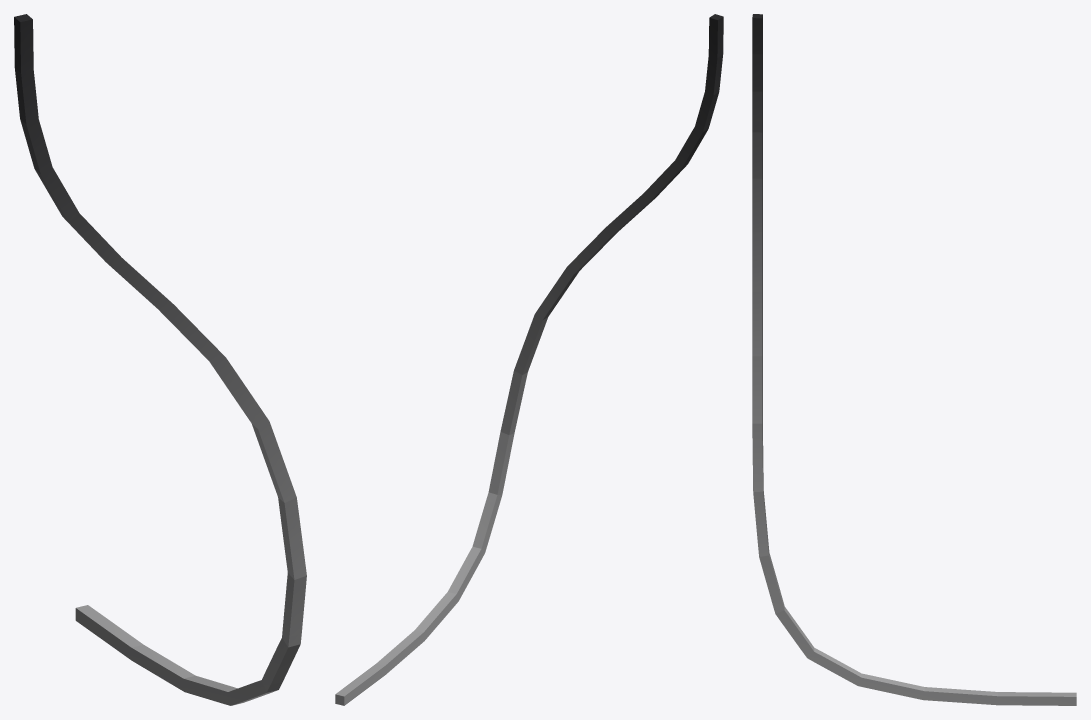
File: mouse_cord.fbx
3 renders of one model, left to right at view 1: azimuth 30°, elevation 25°; view 2: azimuth 150°, elevation 25°; view 3: azimuth 270°, elevation 25°, orthographic. The views are drawn at different scales.
Visible parts, largest first — view 1: Mouse_Cord; view 2: Mouse_Cord; view 3: Mouse_Cord.
Part boxes in pixels (x1,y1,x2,y2): Mouse_Cord: (14, 14, 306, 705); Mouse_Cord: (335, 14, 723, 705); Mouse_Cord: (752, 14, 1076, 705).
Bounding box in the file's own units: 42.15 × 113 × 56.49.
